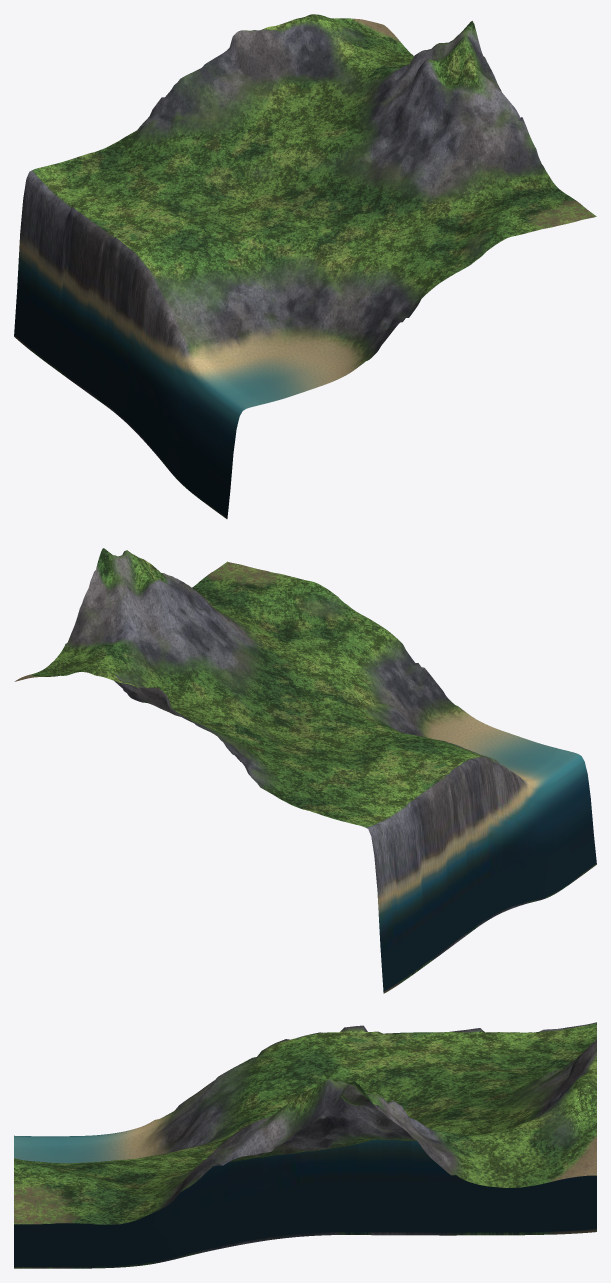
3 views of the same model, one above another, from view 1: azimuth 30°, elevation 25°; view 2: azimuth 150°, elevation 25°; view 3: azimuth 270°, elevation 25° (orthographic). The views are drawn at different scales.
Parts seen in each view (by area): view 1: t000_064; view 2: t000_064; view 3: t000_064.
Part boxes in pixels (x1=…): t000_064: x1=14, y1=14, x2=596, y2=518; t000_064: x1=14, y1=548, x2=596, y2=993; t000_064: x1=14, y1=1022, x2=596, y2=1268.
Bounding box in the file's own units: 64 × 52.55 × 64.
1 material, 1 textured.
